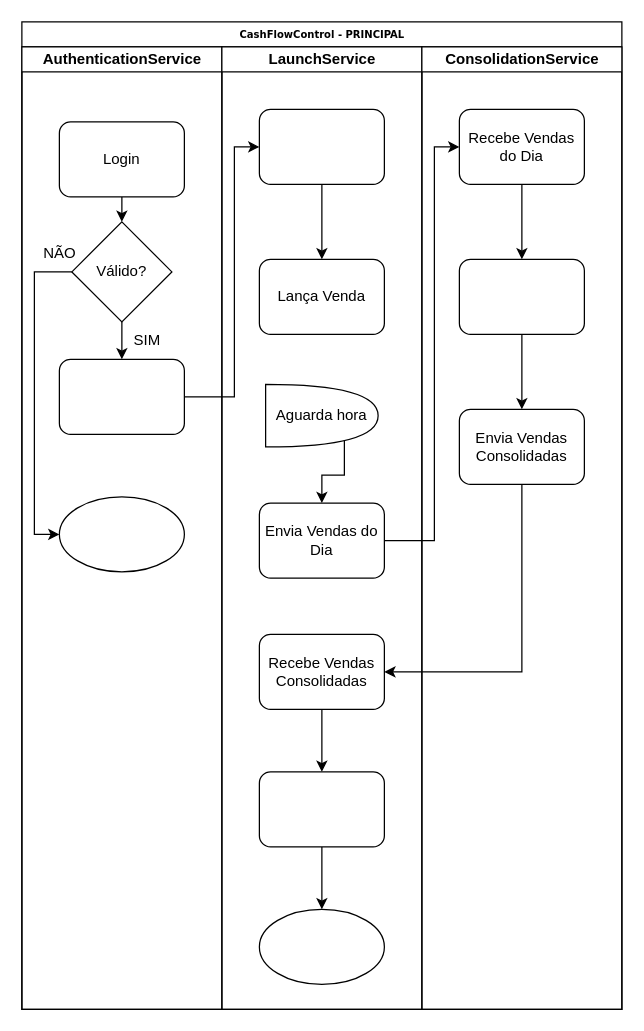
This 644x1031 diagram has some shape labels left out. Here are the shapes that lost their labels. From the top down, the centre of each, then its label:
At (x=321, y=146): "Cria Produto".
At (x=521, y=296): "Consolida Vendas do Dia".
At (x=121, y=396): "Gera JWT Token".
At (x=121, y=534): "Login Inválido".
At (x=321, y=809): "Salva Vendas Consolidadas".
At (x=321, y=946): "Fim do Fluxo".
